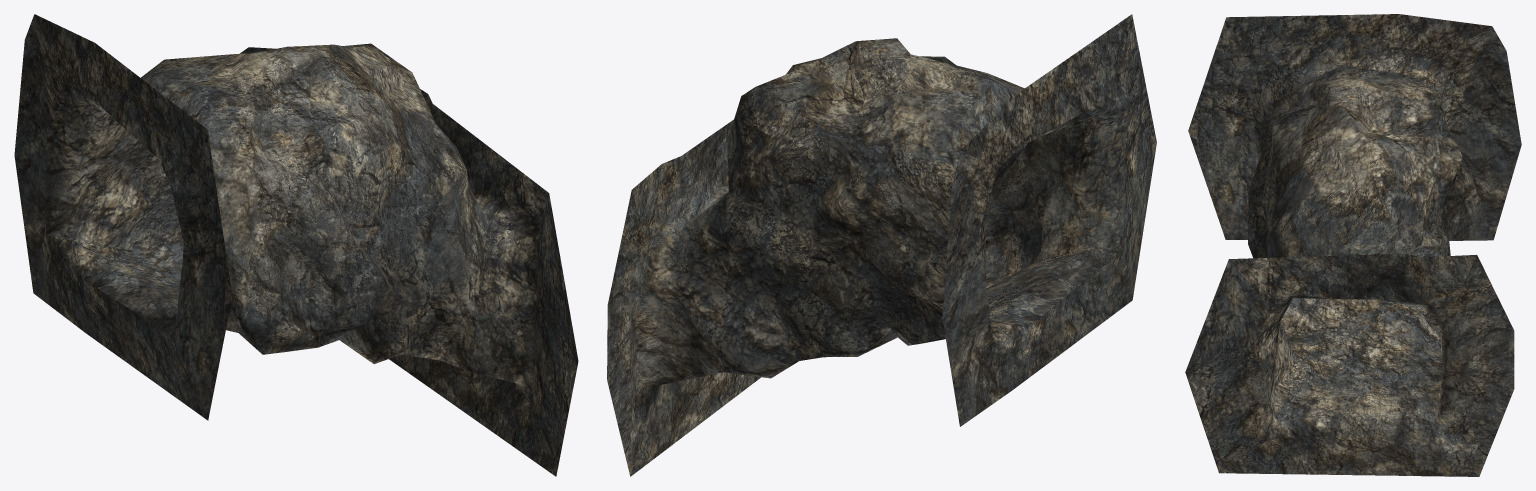
File: Module4_LOD1.fbx
3 renders of one model, left to right at view 1: azimuth 30°, elevation 25°; view 2: azimuth 150°, elevation 25°; view 3: azimuth 270°, elevation 25°, orthographic. The views are drawn at different scales.
Parts seen in each view (by area): view 1: cave_el4_800_Group49487; view 2: cave_el4_800_Group49487; view 3: cave_el4_800_Group49487.
Part boxes in pixels (x1,y1,x2,y2): cave_el4_800_Group49487: (14, 14, 578, 476); cave_el4_800_Group49487: (607, 14, 1156, 476); cave_el4_800_Group49487: (1185, 14, 1521, 476).
Size of the model in its own units: 10.9 by 12.14 by 11.06.
